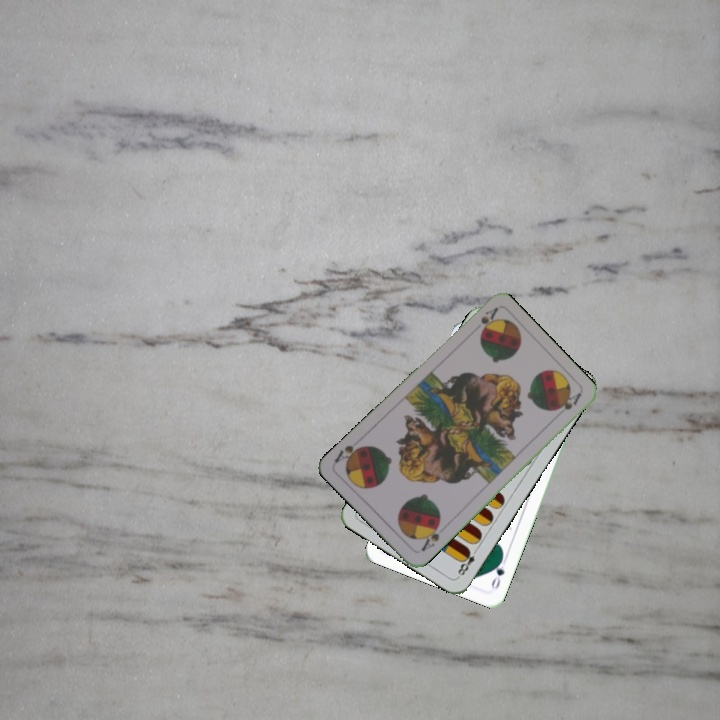E8: (453, 544, 481, 580)
GO: (487, 552, 510, 592)
SA: (417, 518, 443, 554), (475, 304, 500, 337)
